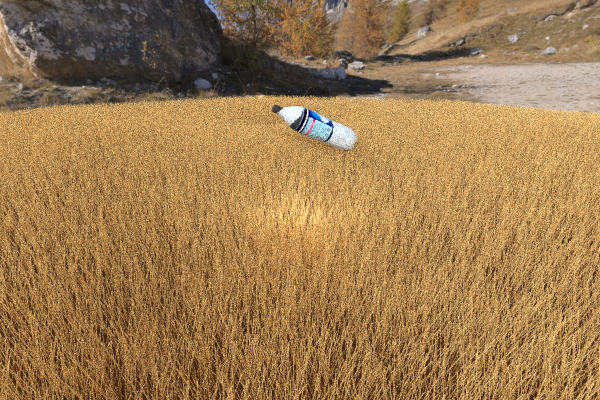Plastic Bottle: (270, 104, 356, 150), (538, 135, 600, 175)
